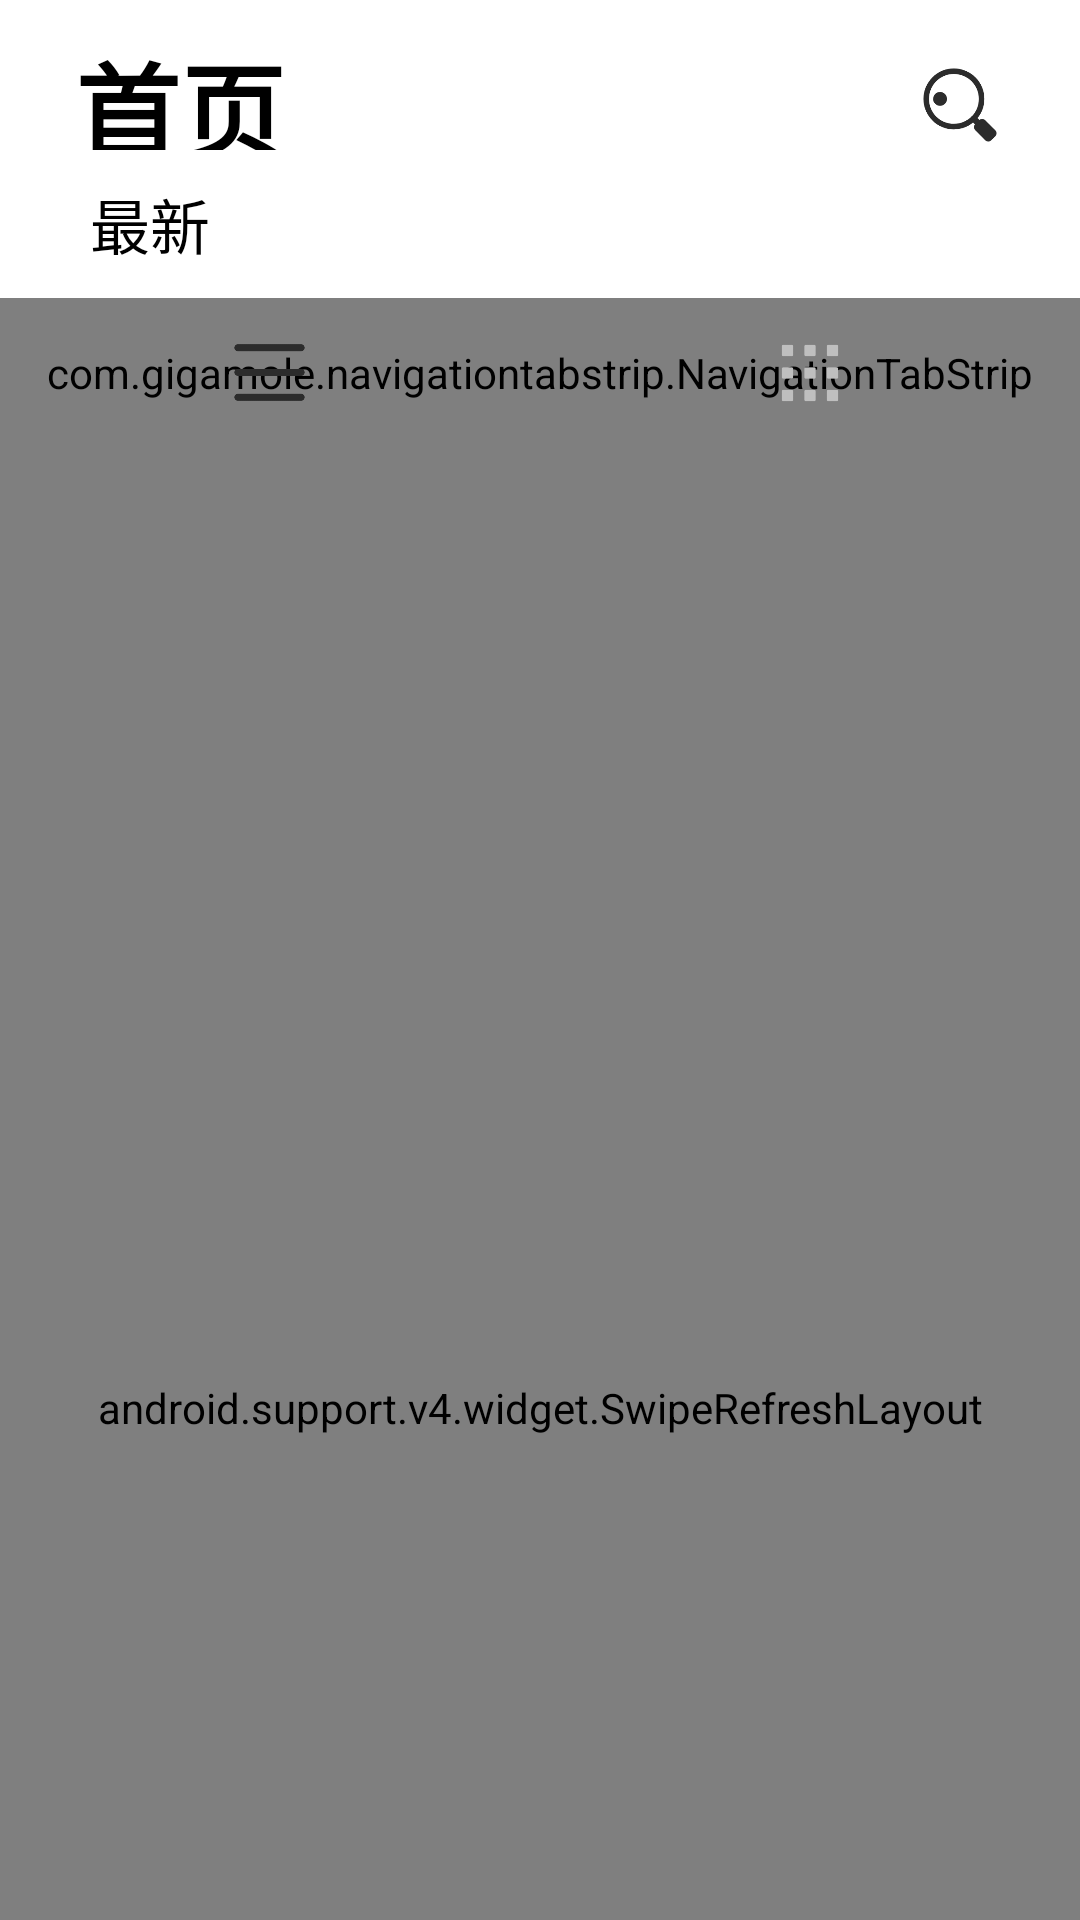

Screen size 1080x1920. Icon name, then its center in pixels as (x=x, y=y):
search: (x=960, y=105)
